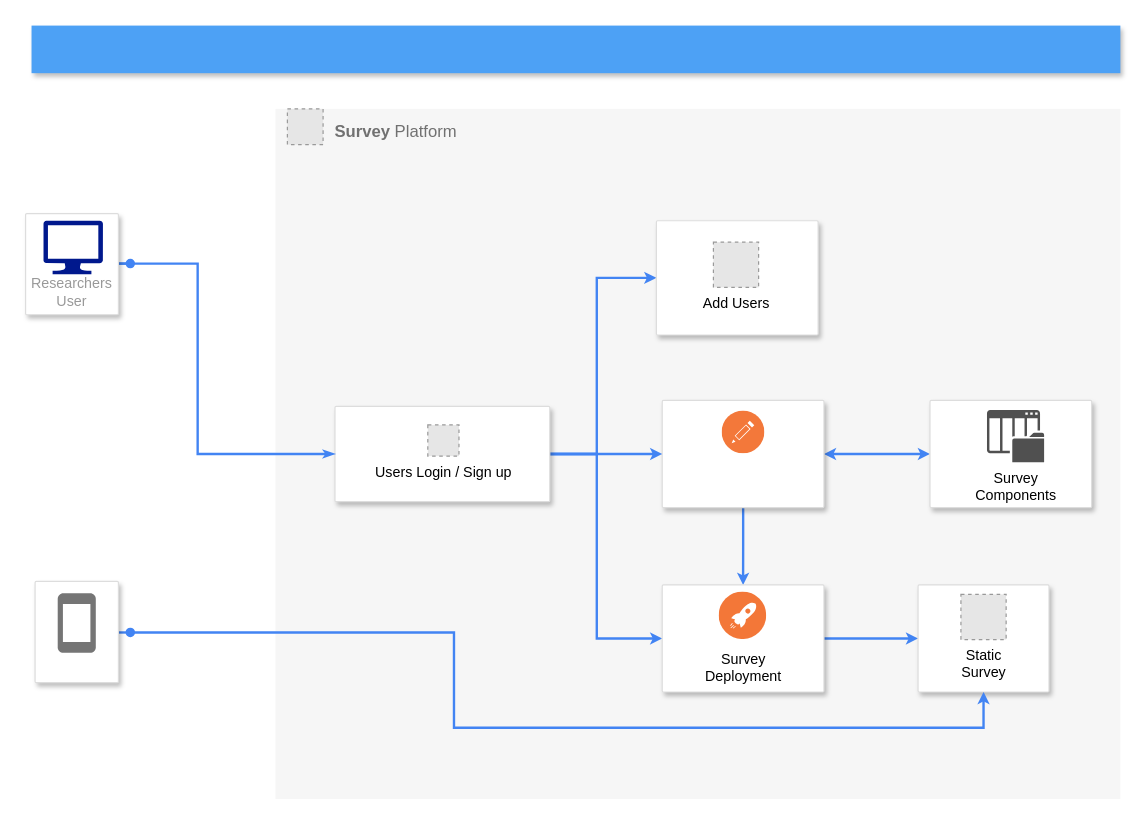
Some shapes in this 1148 by 819 pixel diagram are drawn without their labels. Grey dashed boxes stand in for pictures. Each missing label, with the centre of its shape:
Architecture: Servey System: (576,50)
Suvery Editor: (743,432)
Users: (77,633)
